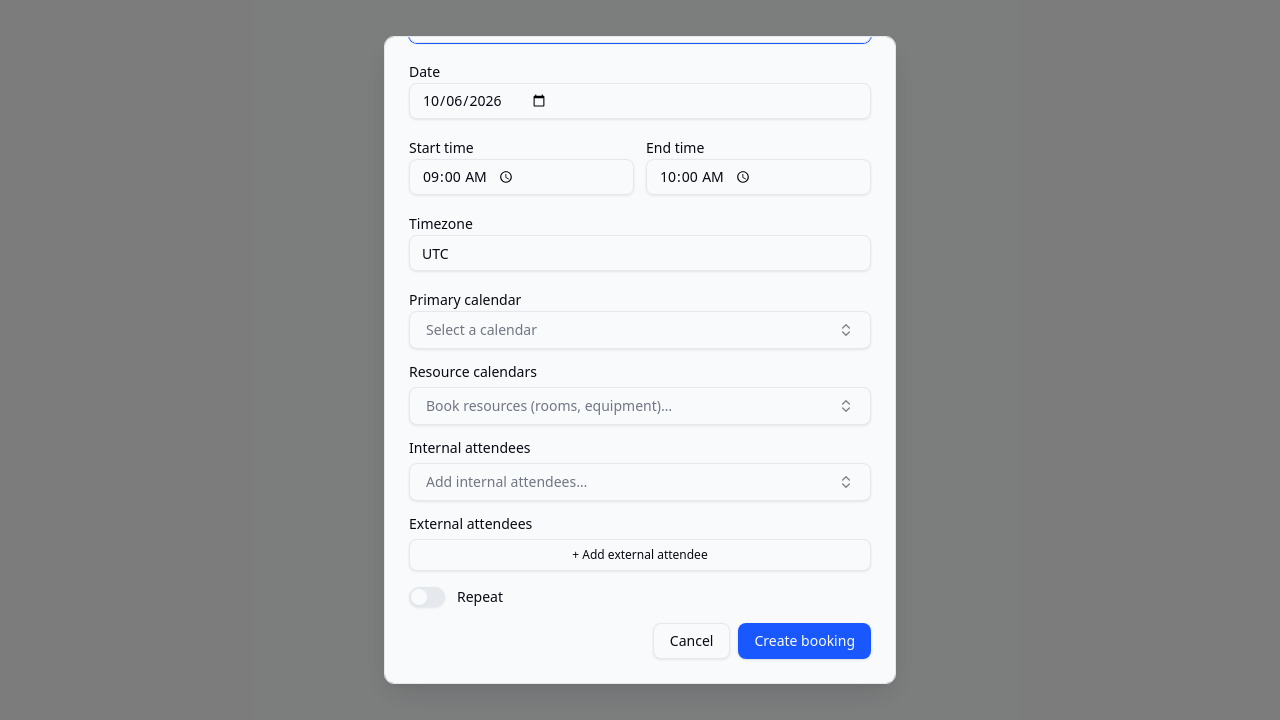
Test case: BookingFormDialog › zod validation › shows an error when title is empty
(page scrolled)
# Submit without filling title
Click the button "Create booking": (805,641) [738,623,871,659]
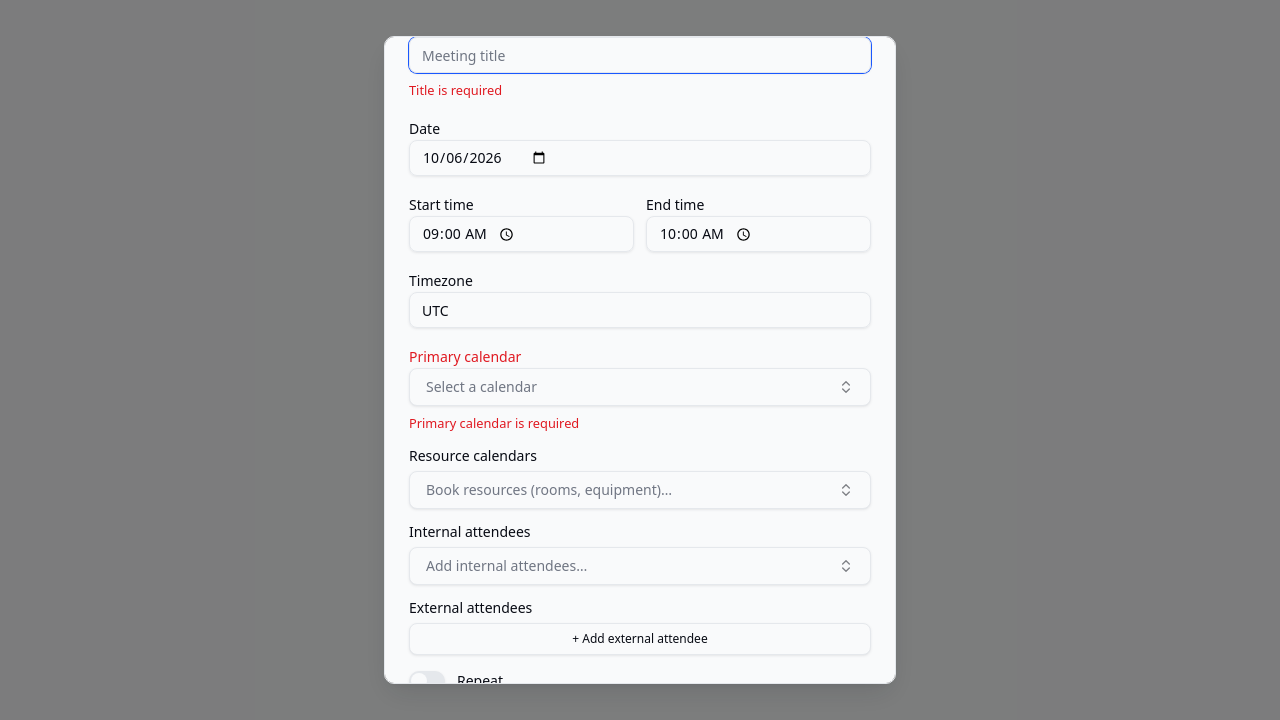
Expected: the text "Title is required" is shown, [409,81,502,99]
